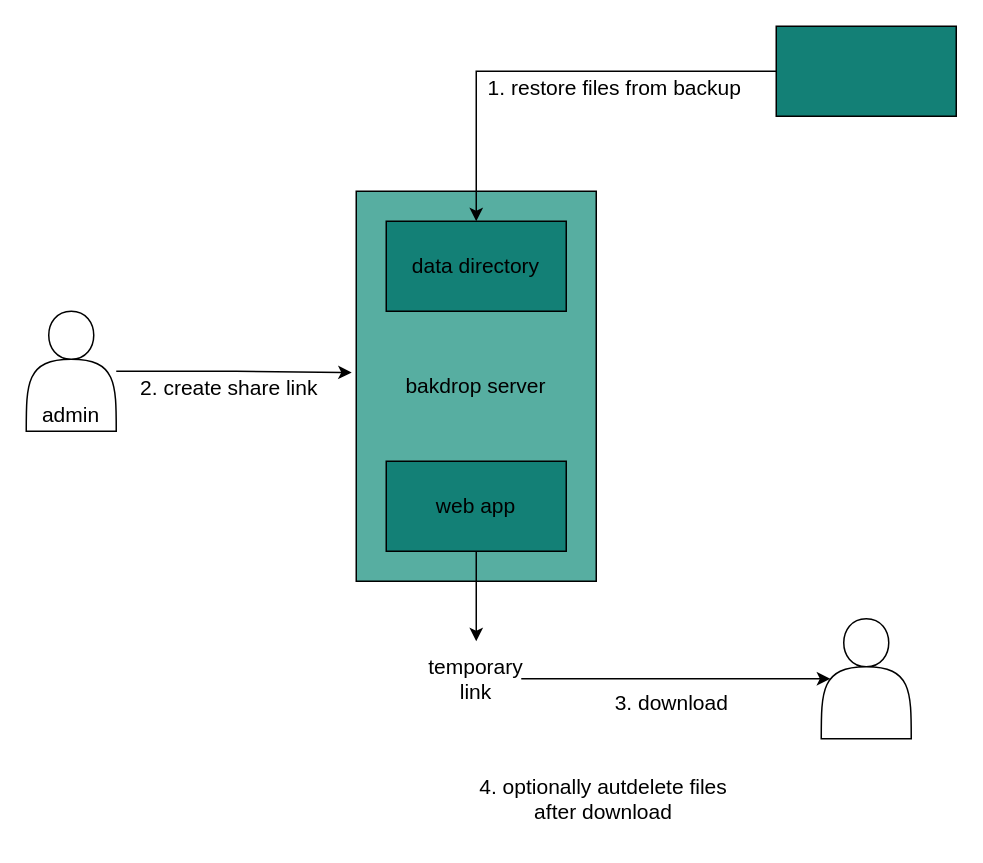
This 983x863 diagram has some shape labels left out. The centre of each missing label's shape, as x and y in pixels:
backup system: (865,70)
end user: (865,678)
